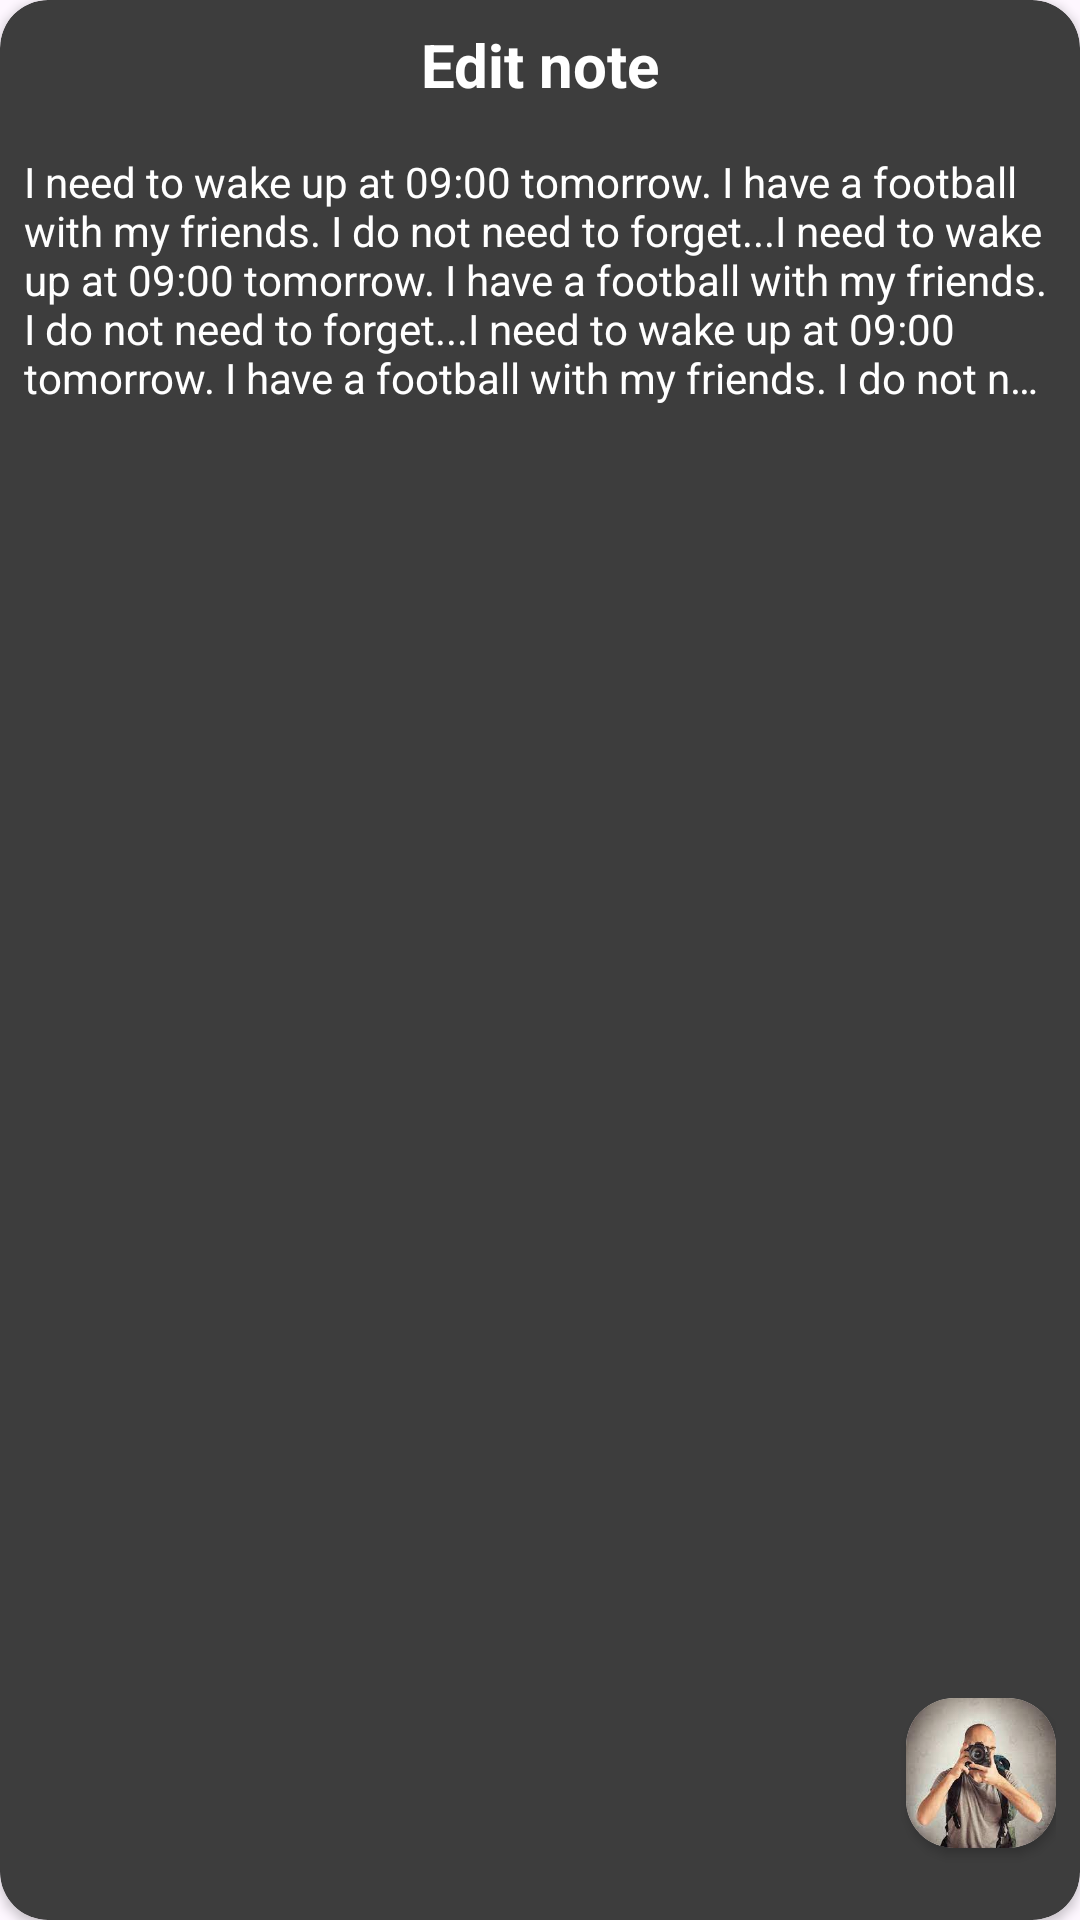

Icon bounding boxes for this 1080px x 1920px phone screenshot, format (x1, y1, x2, y2):
images: (906, 1698, 1056, 1848)
